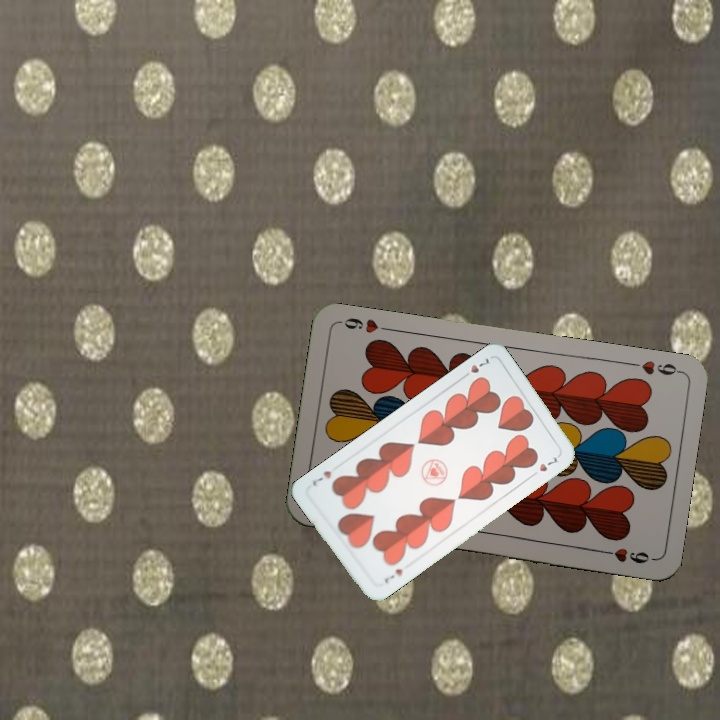H7: (457, 353, 493, 381), (381, 565, 405, 586)
H9: (624, 356, 683, 378)
